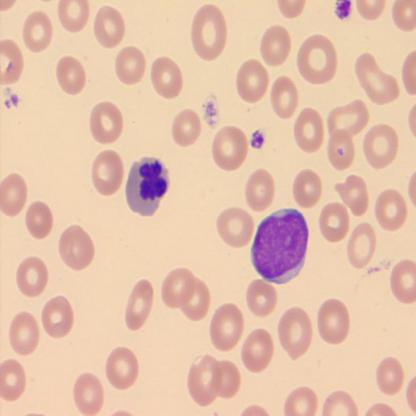NRC: (248, 206, 310, 286)
